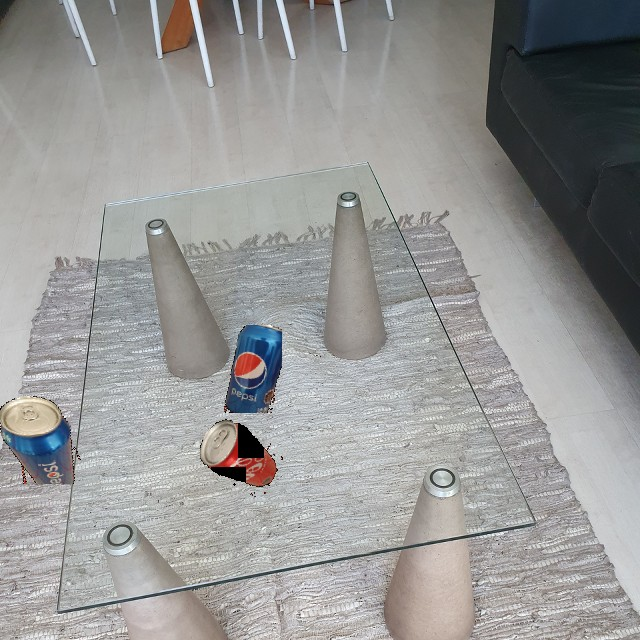coca cola: (192, 411, 290, 501)
pepsi: (0, 393, 91, 484), (224, 325, 282, 413)
